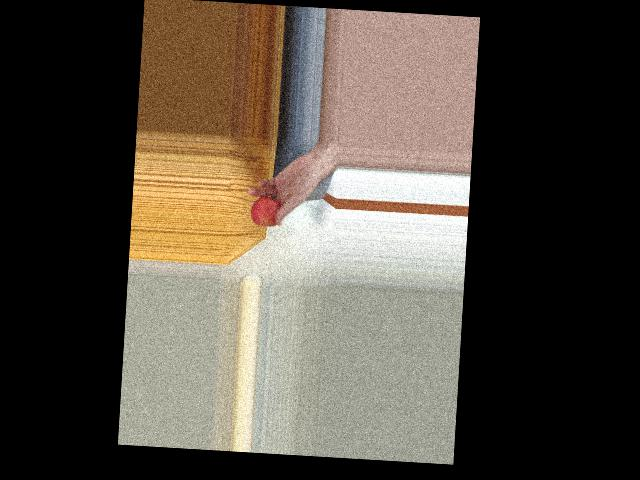apple: (249, 193, 282, 230)
